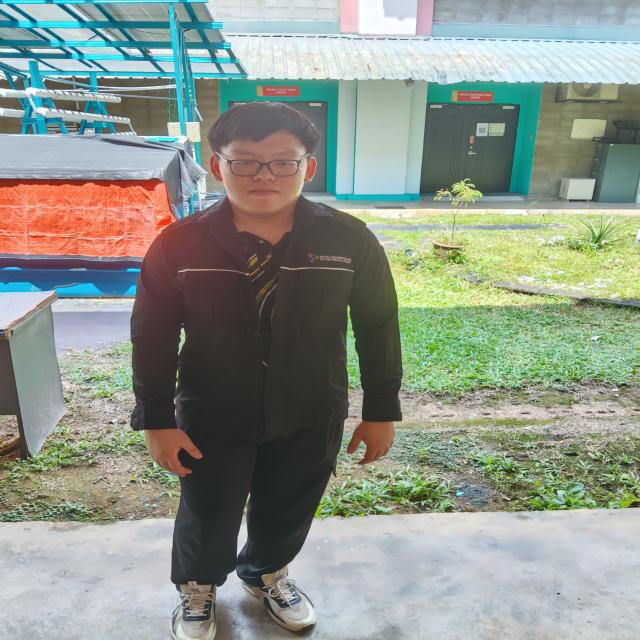person_with_labcoat: (131, 102, 402, 640)
